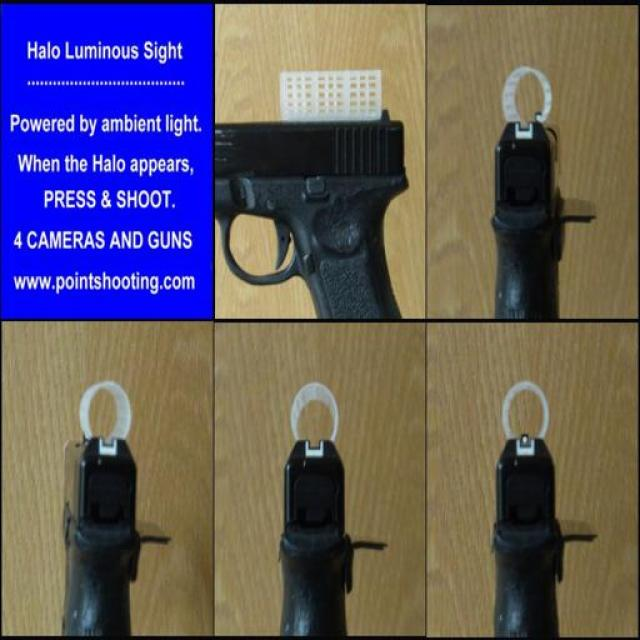pistol: (215, 121, 409, 315), (489, 428, 600, 636), (280, 430, 387, 632), (59, 426, 161, 634), (491, 111, 593, 317)
